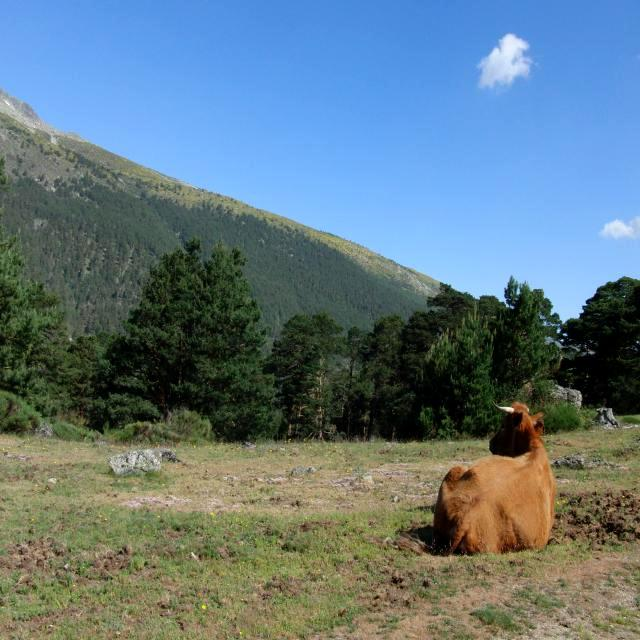COW: (432, 402, 556, 553)
